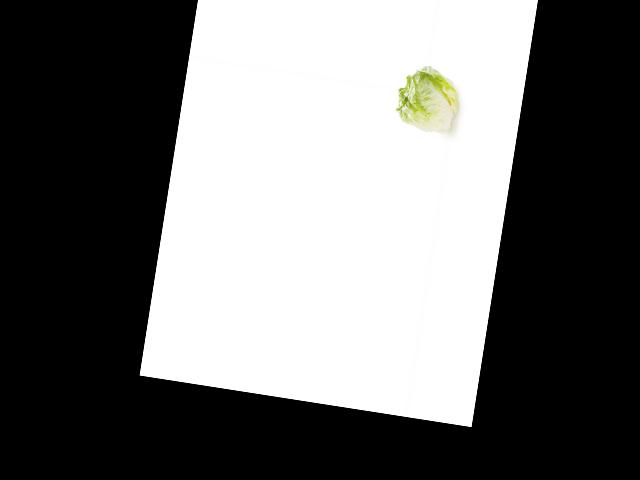lettuce: (390, 58, 463, 140)
